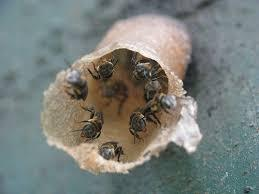Meliponula: (149, 86, 191, 118), (63, 60, 91, 103), (126, 105, 158, 142), (127, 46, 158, 83), (71, 106, 103, 140), (98, 139, 129, 167), (140, 72, 170, 97), (96, 49, 116, 80)
